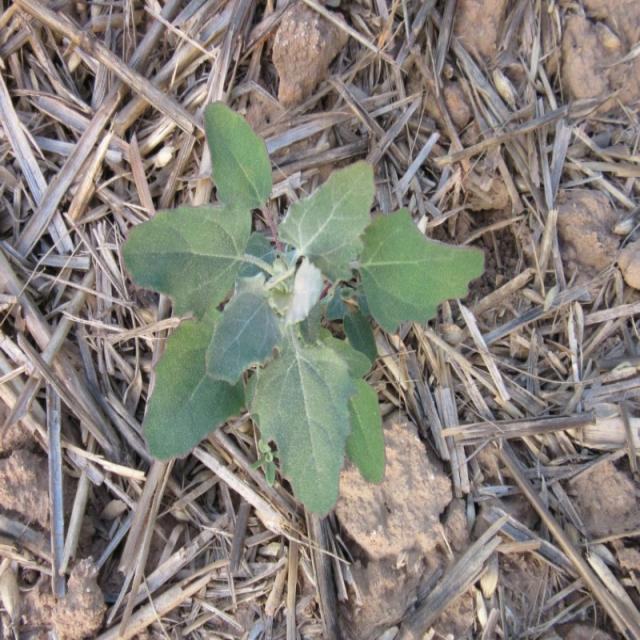ca: (120, 102, 388, 513)
